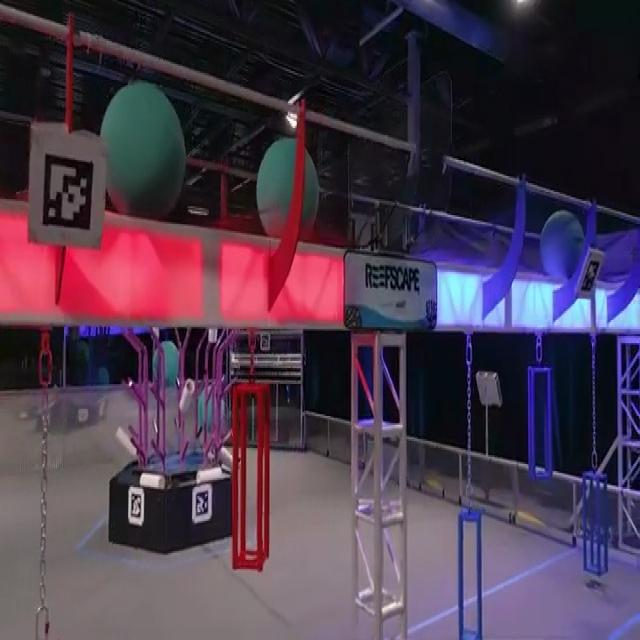Algae: (99, 78, 186, 219), (257, 134, 318, 241), (540, 212, 584, 280)
